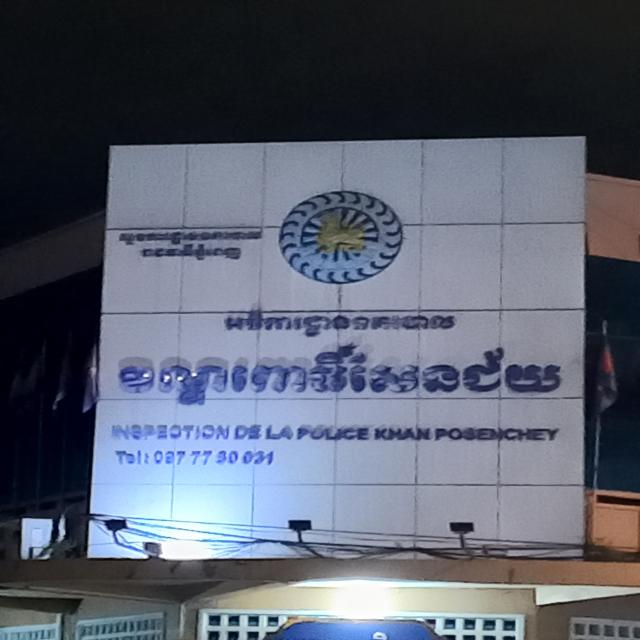413: (149, 444, 282, 467)
Yolov11_80vkh: (113, 344, 575, 407), (220, 302, 460, 340), (113, 228, 270, 262)
